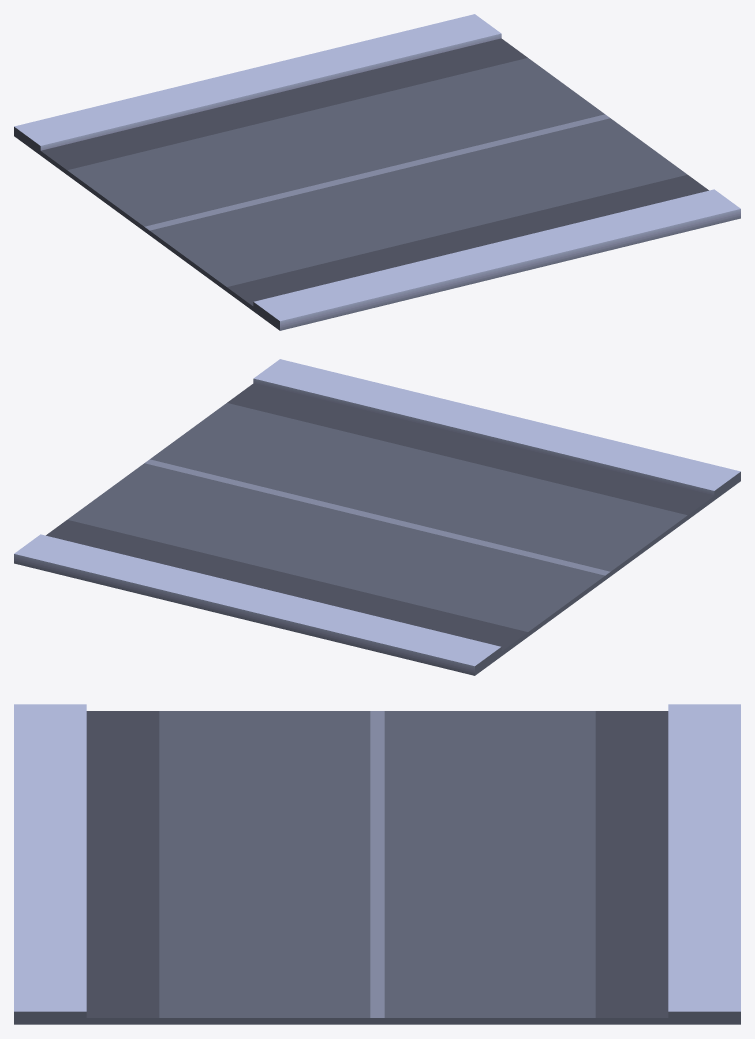
File: road-straight.glb
The picture shows the model from 3 angles, top to bottom: view 1: azimuth 30°, elevation 25°; view 2: azimuth 150°, elevation 25°; view 3: azimuth 270°, elevation 25°; orthographic projection. The views are drawn at different scales.
Parts seen in each view (by area): view 1: road-straight; view 2: road-straight; view 3: road-straight.
Part boxes in pixels (bbox=[...]): road-straight: bbox=[14, 14, 740, 330]; road-straight: bbox=[14, 359, 740, 675]; road-straight: bbox=[14, 704, 740, 1024].
Size of the model in its own units: 1 by 0.02 by 1.
1 material, 1 textured.
